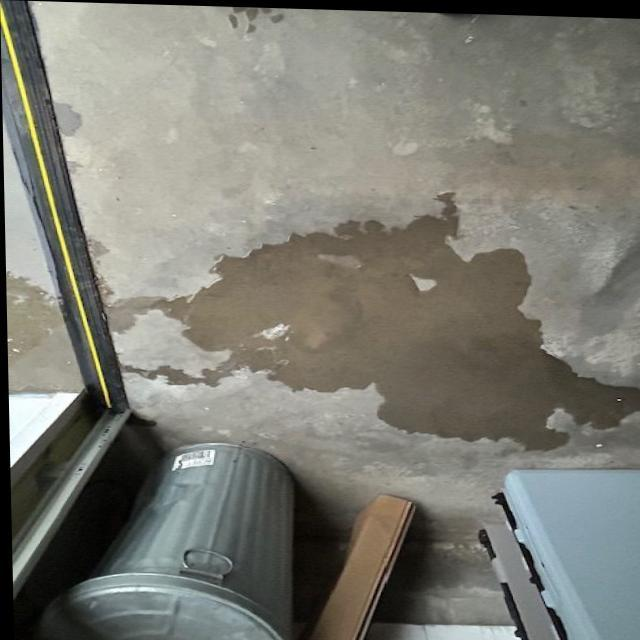water accumulation: (106, 190, 640, 454)
